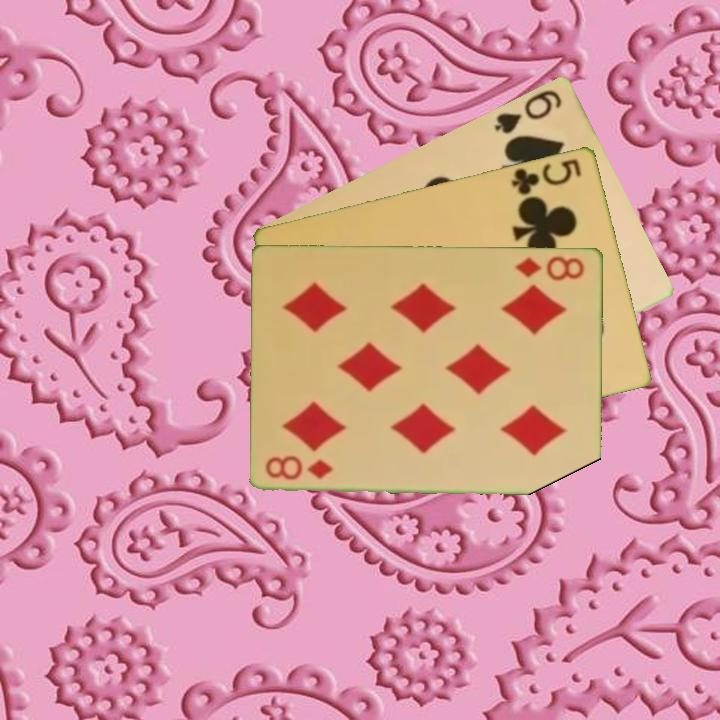5c: (507, 154, 584, 198)
6s: (491, 86, 565, 136)
8d: (512, 252, 588, 283), (262, 453, 336, 482)
